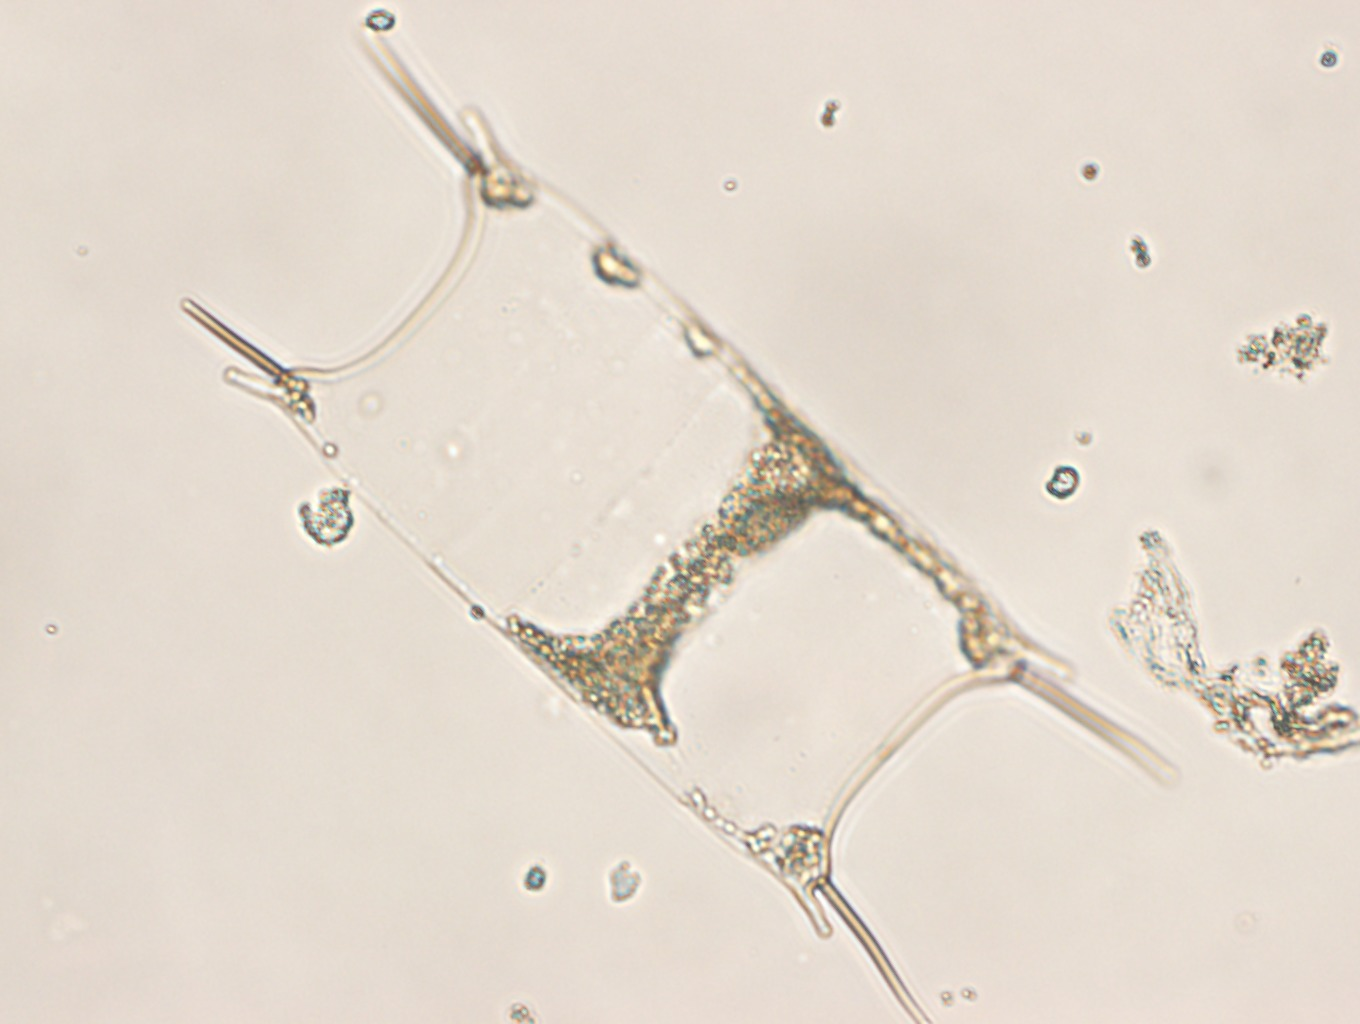biddulphia: (177, 28, 1166, 1022)
